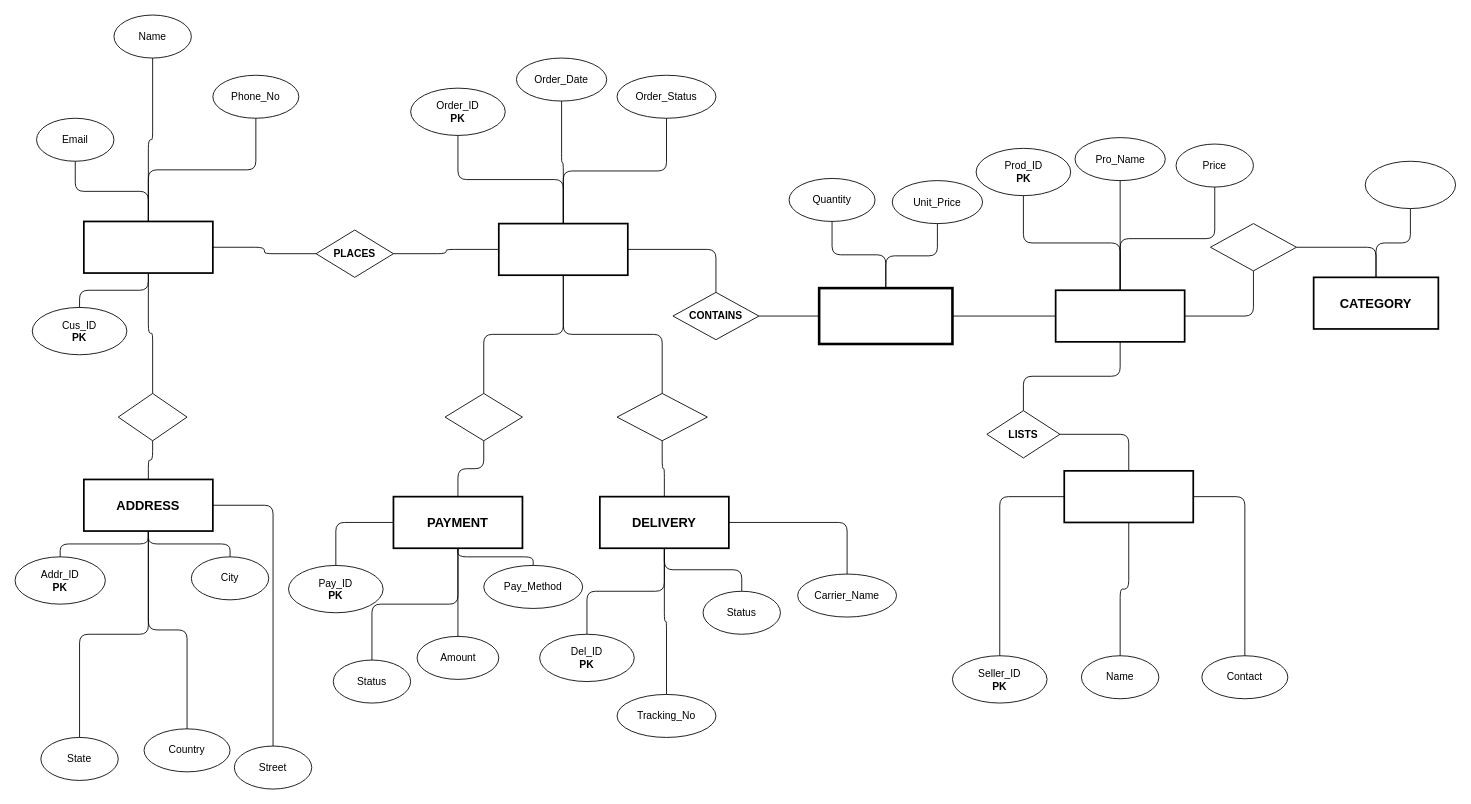
Some shapes in this 1471 by 804 pixel diagram are drawn without their labels. Here are the shapes that lost their labels. From the top down, the centre of each, then its label:
At point (1410, 184): "Cat_ID PK".
At point (148, 246): "CUSTOMER".
At point (563, 249): "ORDER".
At point (1253, 247): "BELONGS TO".
At point (885, 315): "ORDER_ITEM".
At point (1119, 315): "PRODUCT".
At point (152, 417): "HAS".
At point (483, 417): "PAID VIA".
At point (661, 417): "DELIVERED VIA".
At point (1128, 496): "SELLER".
